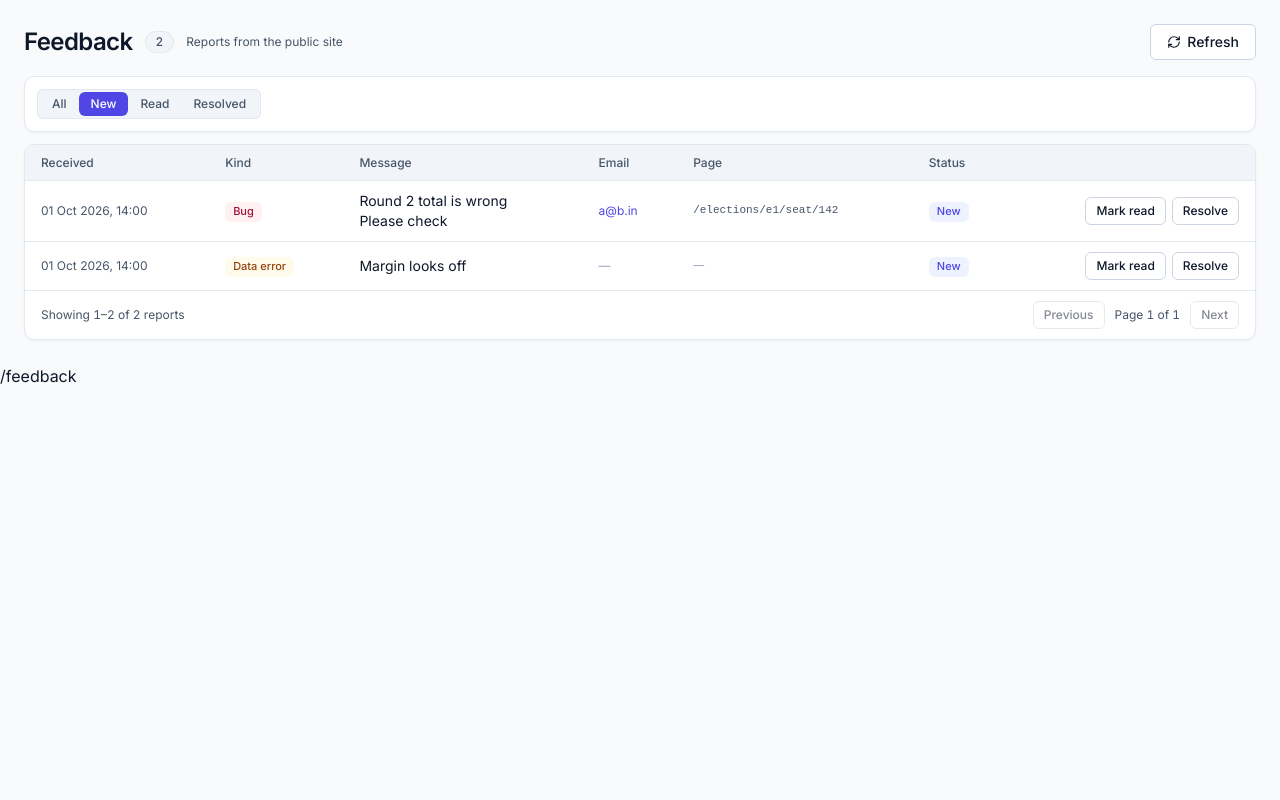
Test: Feedback page › a row opens the panel; resolving it under the New filter keeps the panel on the record
The image size is (1280, 800).
Click the text "Round 2 total is wrong Please check" at (433, 210), box [359,192,507,229]
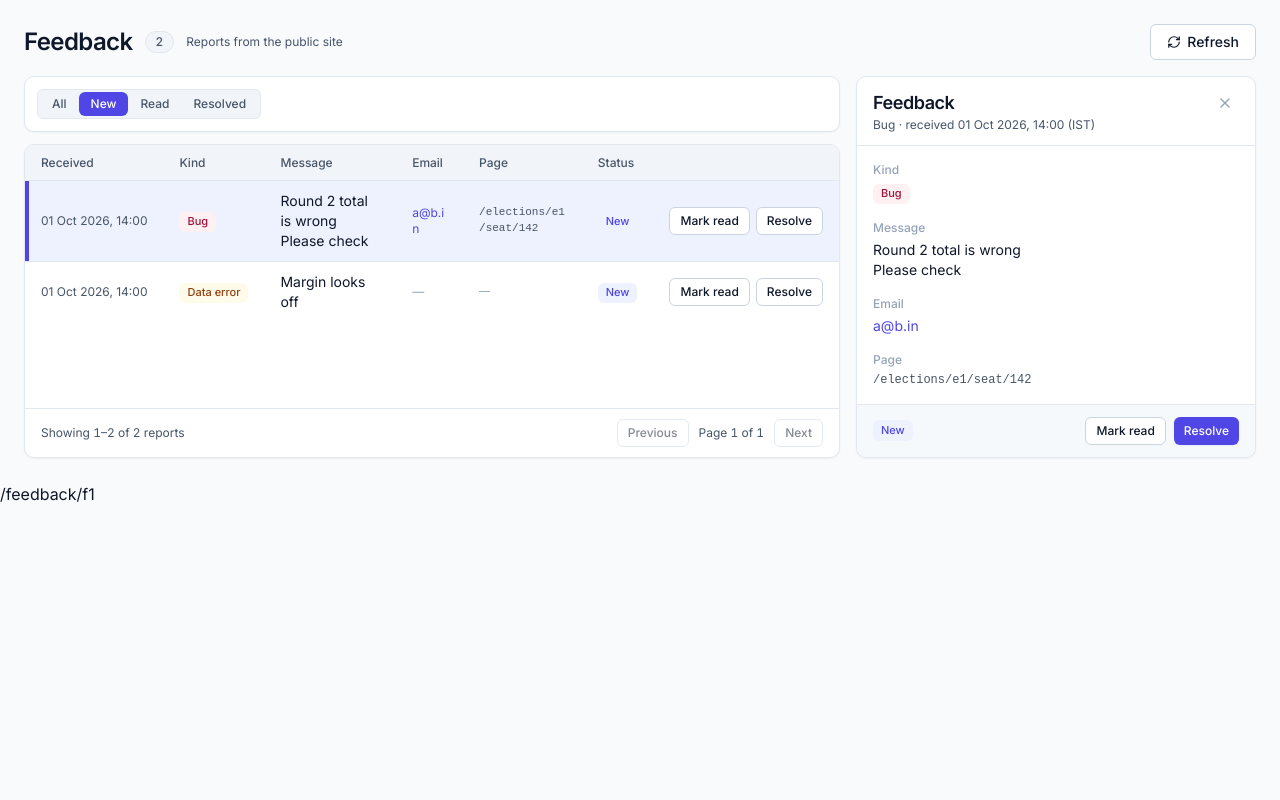
Now the text with test id "where" reads "/feedback/f1", box [0,484,95,504]
Now the text "Round 2 total is wrong Please check" below "Bug · received 01 Oct 2026, 14:00 (IST)" is shown, box [873,241,1021,278]
Now the link "a@b.in" below "Bug · received 01 Oct 2026, 14:00 (IST)" is shown, box [873,317,919,334]
Click the button "Resolve" below "Bug · received 01 Oct 2026, 14:00 (IST)" at (1206, 431), box [1174,417,1239,445]
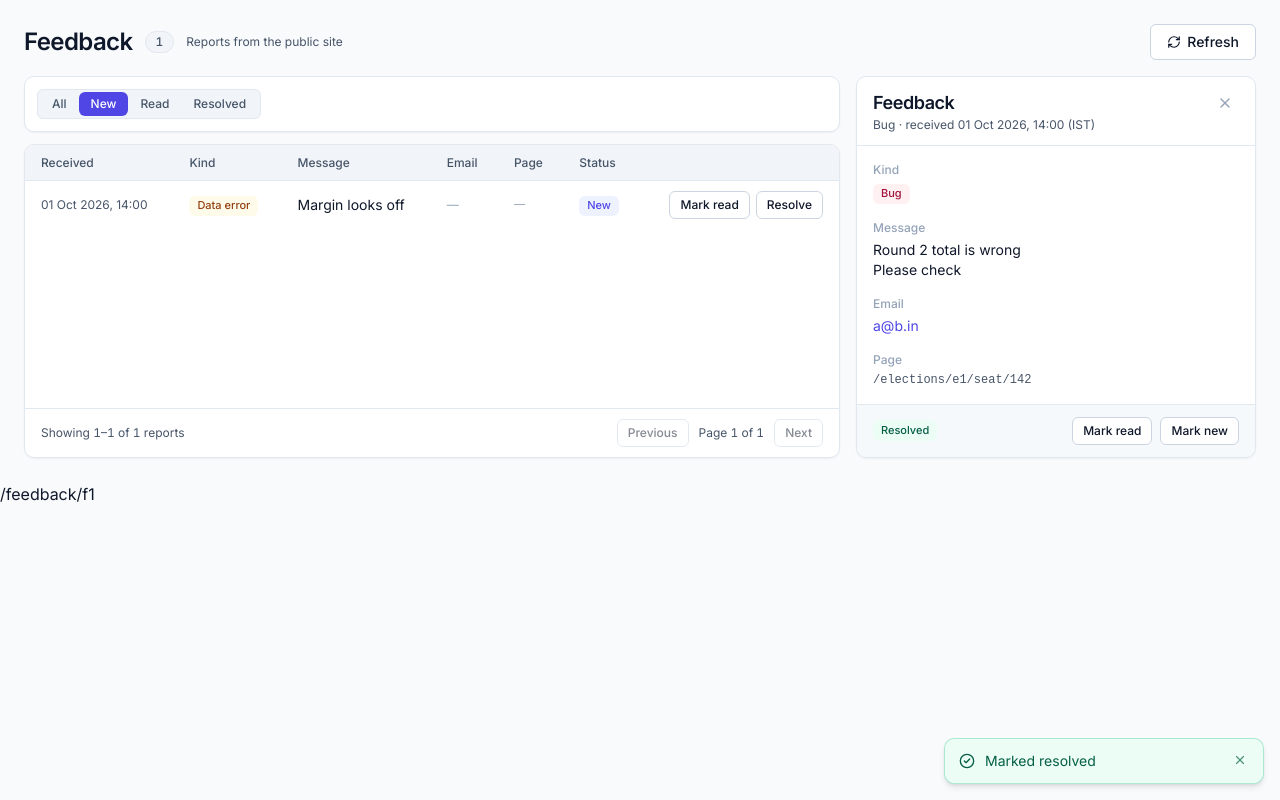
Expected: the button "Mark read" below "/elections/e1/seat/142" is shown, [1072,417,1152,445]
Now the text "Resolved" is shown, box [873,420,937,441]
